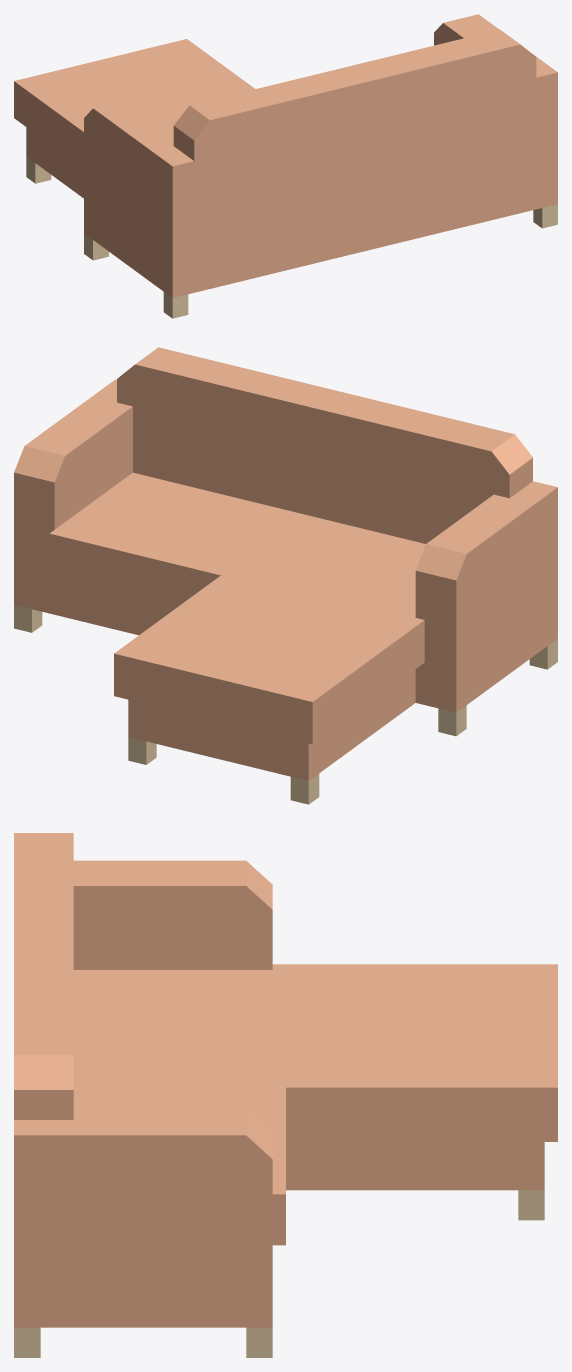
Rendered from loungeSofaLong.glb.
3 views of the same model, one above another, from view 1: azimuth 30°, elevation 25°; view 2: azimuth 150°, elevation 25°; view 3: azimuth 270°, elevation 25° (orthographic). The views are drawn at different scales.
Parts seen in each view (by area): view 1: loungeSofaLong; view 2: loungeSofaLong; view 3: loungeSofaLong.
Part boxes in pixels (left/top/right/bottom): loungeSofaLong: left=14, top=14, right=557, bottom=318; loungeSofaLong: left=14, top=347, right=557, bottom=804; loungeSofaLong: left=14, top=833, right=557, bottom=1357.
Bounding box in the file's own units: 9.8 × 4.6 × 8.2.
